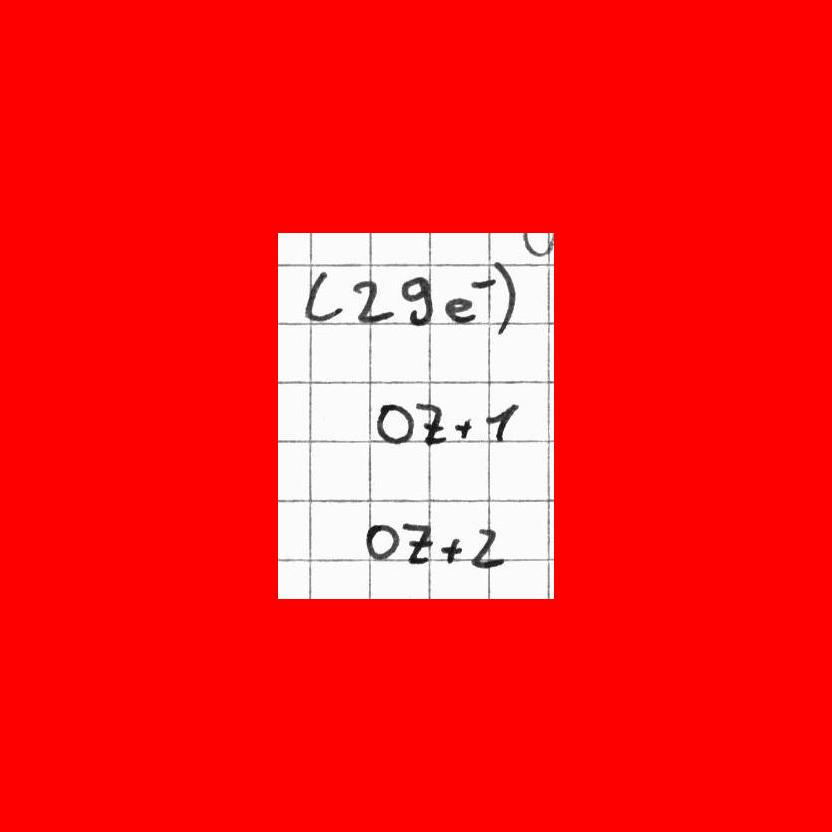Char: (300, 267, 345, 325), (490, 257, 518, 343), (399, 273, 440, 329), (349, 275, 395, 324), (373, 399, 417, 447), (414, 396, 449, 448), (469, 525, 508, 570), (402, 520, 437, 566), (481, 402, 519, 441), (365, 522, 399, 561), (443, 295, 479, 325), (439, 536, 465, 565), (468, 274, 499, 292), (450, 417, 474, 439)
